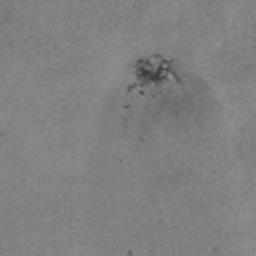Iron sheet ash: (127, 50, 186, 95)
